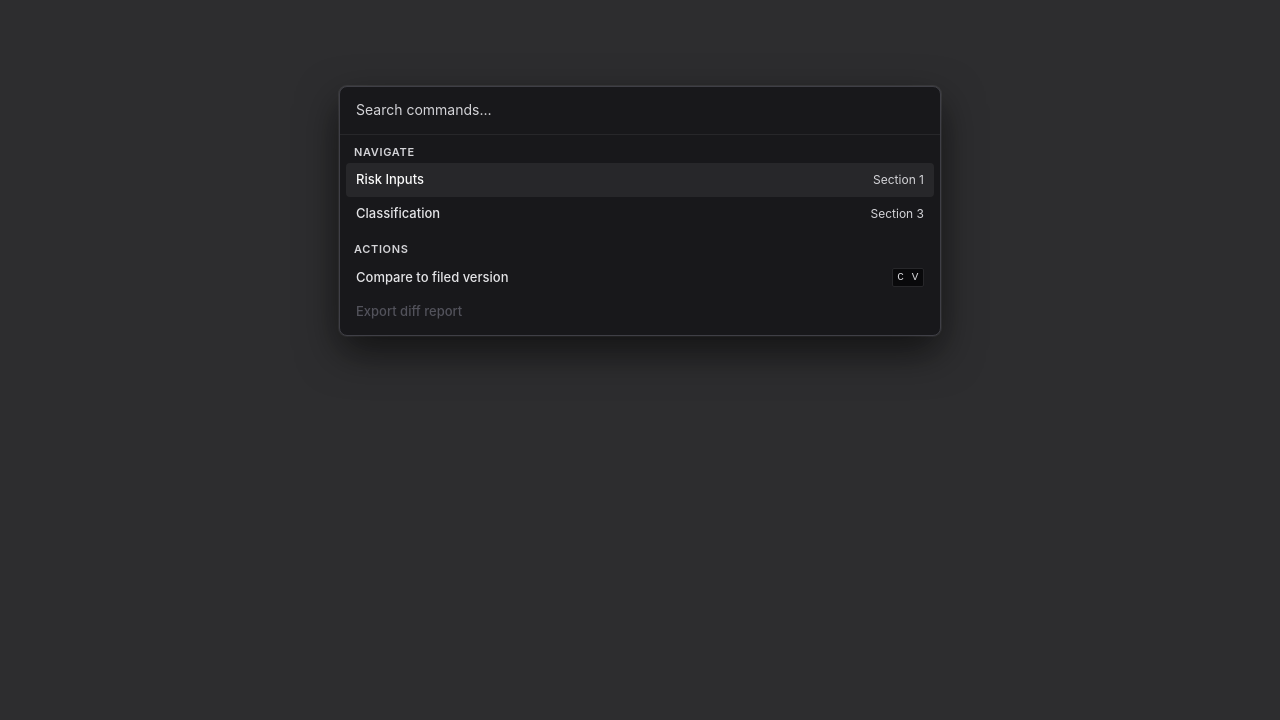
it: <CommandPalette> — filtering › shows empty state when nothing matches
The image size is (1280, 720).
Type "xyz-no-match" into the dropdown. click: (656, 111)
box: left=340, top=87, right=972, bottom=135
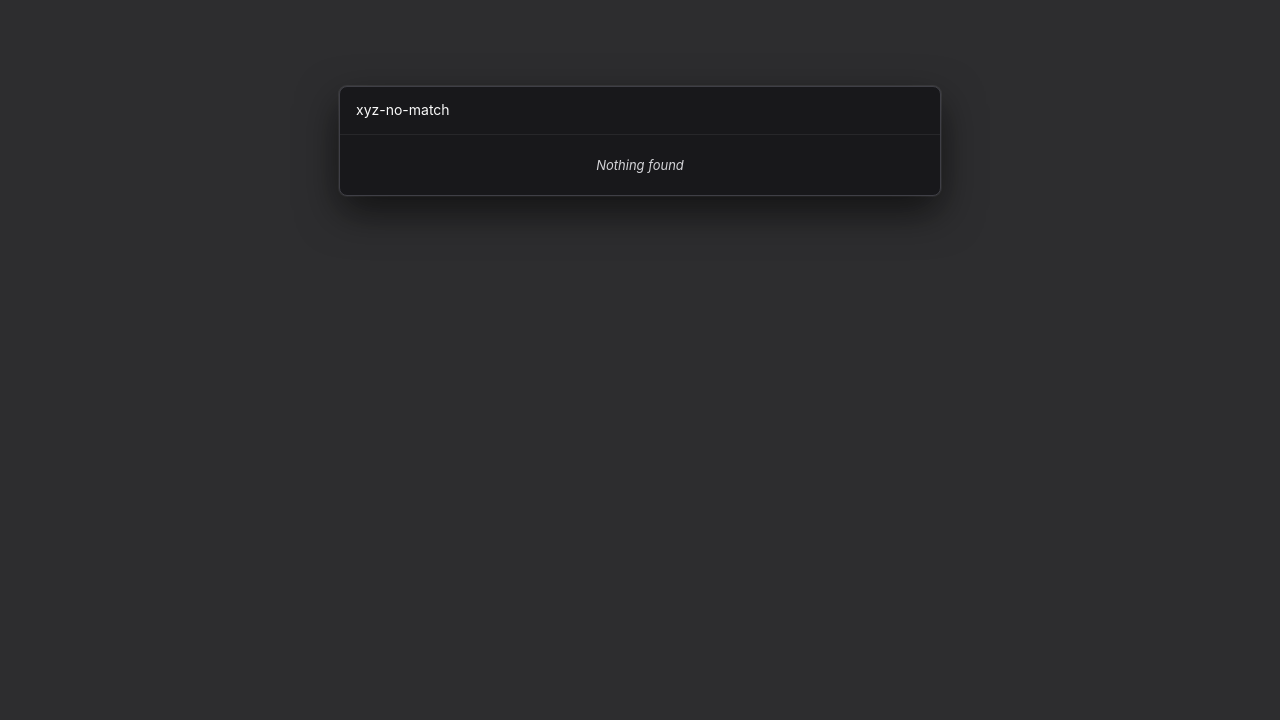
Expected: the text "Nothing found" is shown, left=596, top=157, right=684, bottom=173
